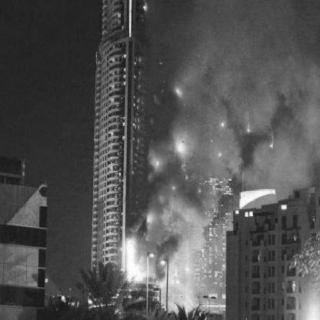Fire: (122, 32, 188, 286), (138, 2, 152, 22)
Smoke: (160, 5, 314, 222)
